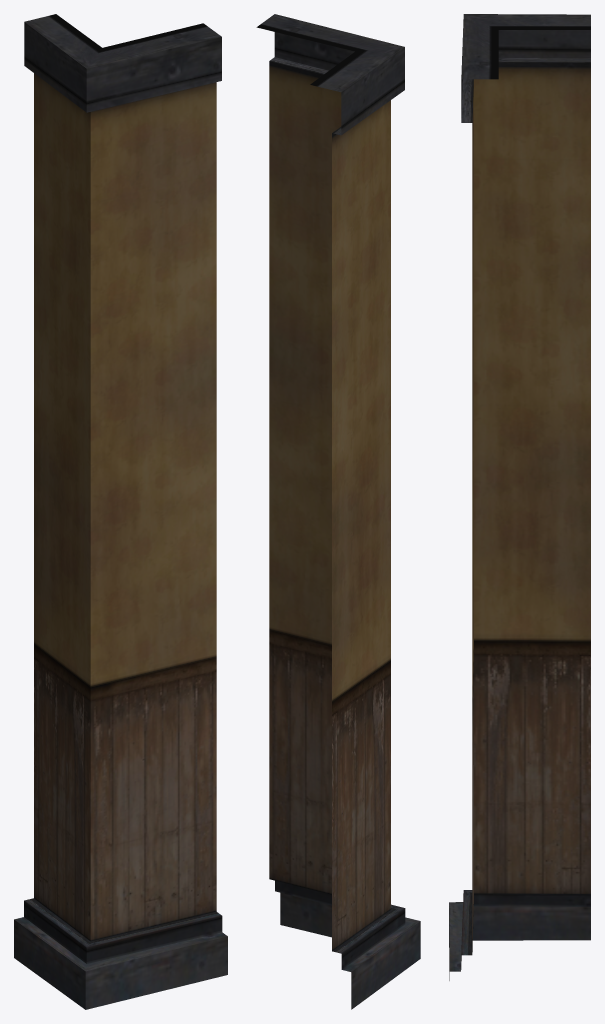
File: Wall_Corner2_right.FBX
3 renders of one model, left to right at view 1: azimuth 30°, elevation 25°; view 2: azimuth 150°, elevation 25°; view 3: azimuth 270°, elevation 25°, orthographic. The views are drawn at different scales.
Parts seen in each view (by area): view 1: Wall_corner2_right; view 2: Wall_corner2_right; view 3: Wall_corner2_right.
Boxes of the visible parts, box(x1,y1,x2,y2) form: Wall_corner2_right: box(14, 14, 227, 1009); Wall_corner2_right: box(256, 14, 420, 1009); Wall_corner2_right: box(449, 14, 590, 980).
Size of the model in its own units: 0.7274 by 4.54 by 0.6263.
